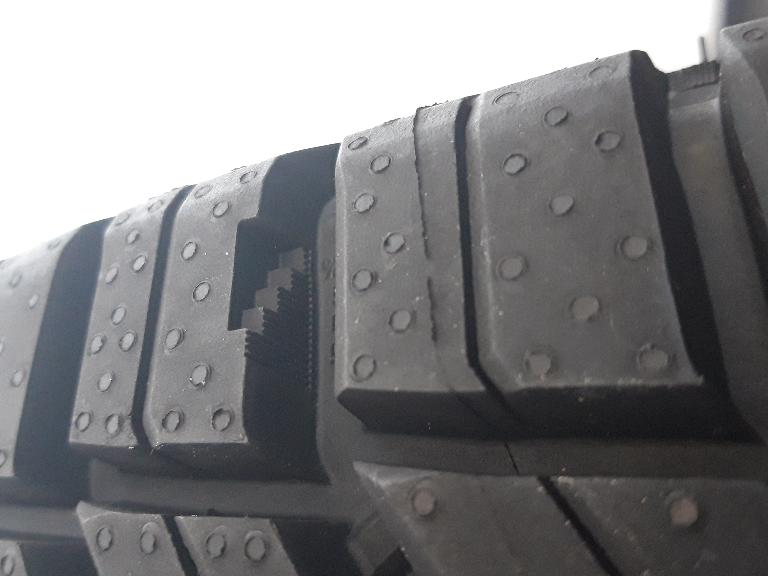temoin:100: (222, 208, 319, 396)
